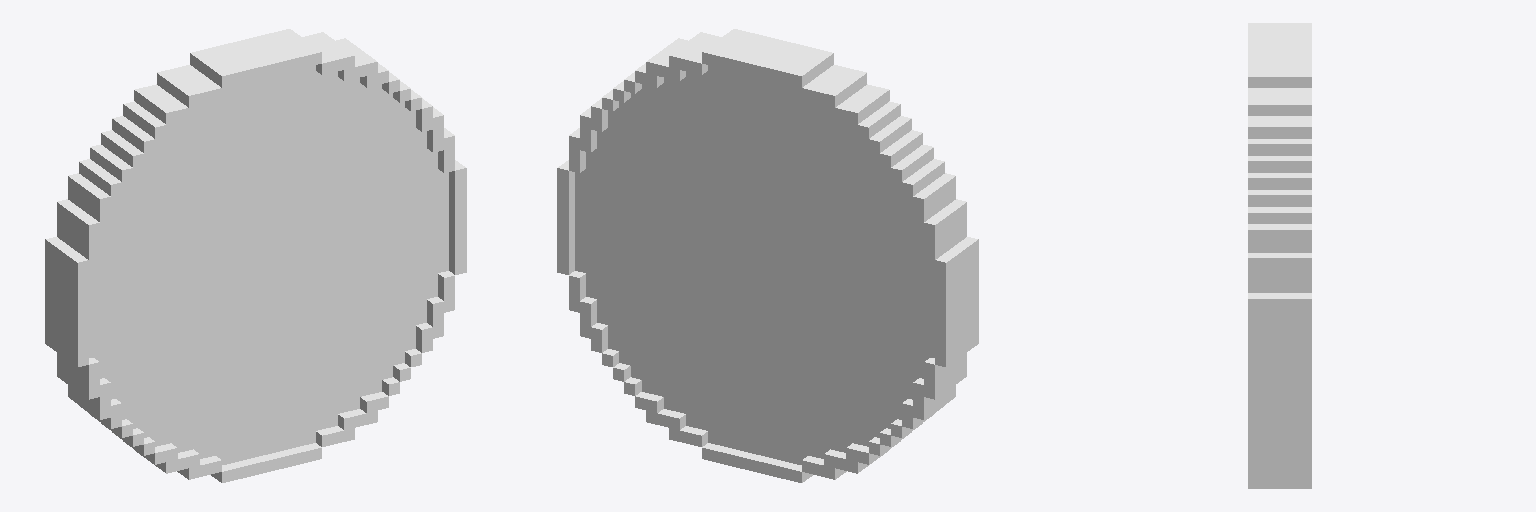
The model's file is coin3d.obj.
3 renders of one model, left to right at view 1: azimuth 30°, elevation 25°; view 2: azimuth 150°, elevation 25°; view 3: azimuth 270°, elevation 25°, orthographic.
Bounding box in the file's own units: 35 × 35 × 5.